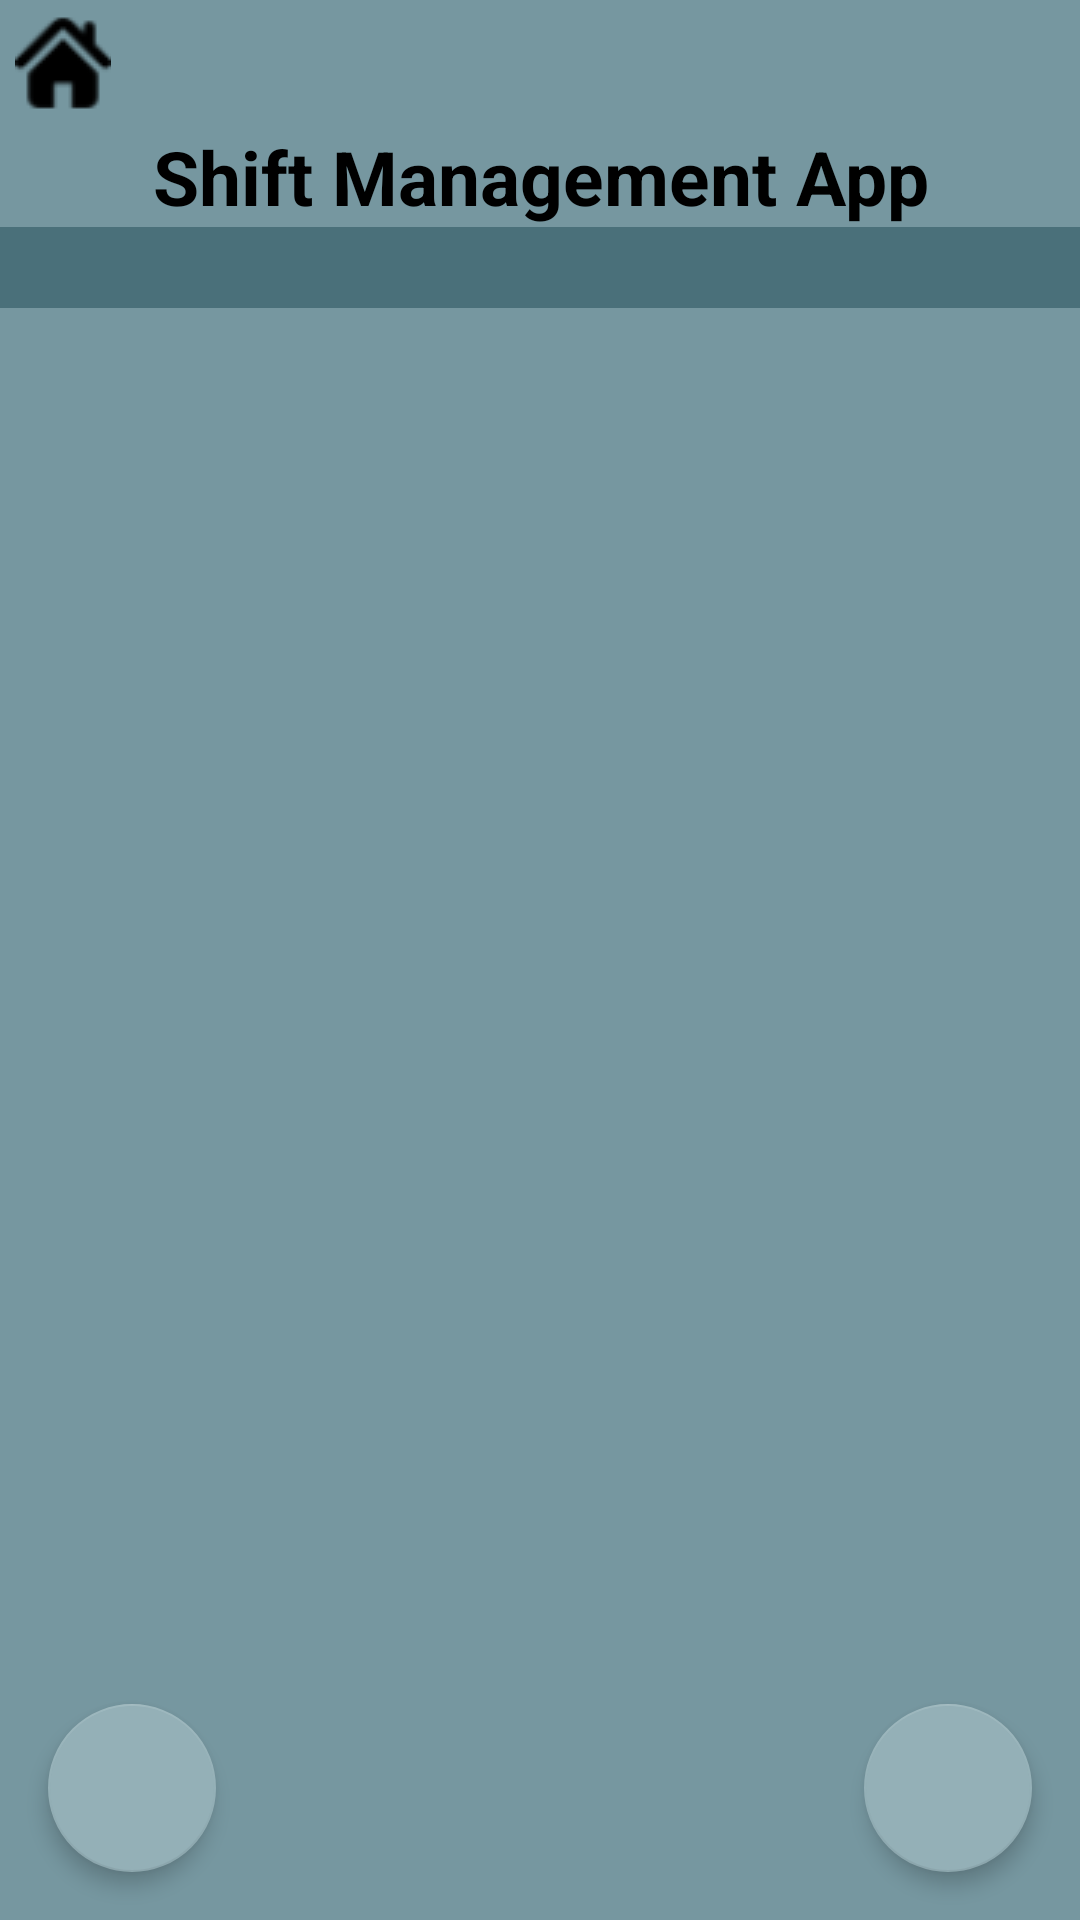

Named icons in this screenshot (1080*1920) and their centers, [x,y]:
home: [63,63]
